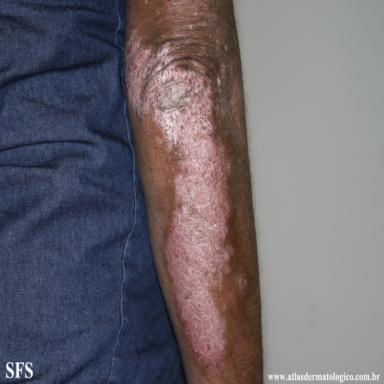Psoriasis: (126, 35, 232, 365), (237, 274, 247, 294)
